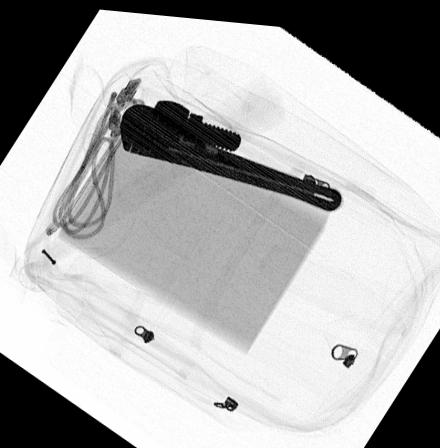Wrench: (117, 95, 344, 205)
